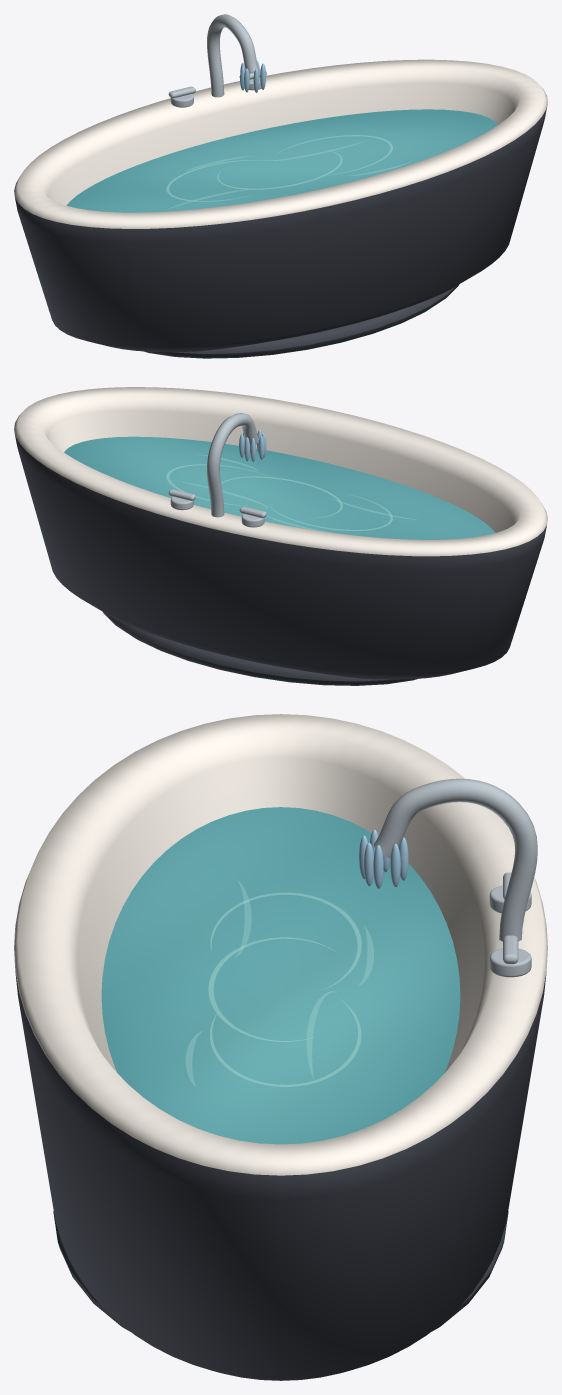
File: bathroomBathOvalCharcoal.glb
3 renders of one model, top to bottom at view 1: azimuth 30°, elevation 25°; view 2: azimuth 150°, elevation 25°; view 3: azimuth 270°, elevation 25°, orthographic. The views are drawn at different scales.
Parts seen in each view (by area): view 1: Oval bath shell, Recessed bath water, Recessed bath plinth, Bath gooseneck faucet; view 2: Oval bath shell, Recessed bath water, Recessed bath plinth, Bath gooseneck faucet; view 3: Oval bath shell, Recessed bath water, Bath gooseneck faucet, Recessed bath plinth, Bath tap base.001.
Boxes of the visible parts, box(x1,y1,x2,y2) form: Oval bath shell: box(14, 59, 547, 352); Recessed bath water: box(66, 109, 497, 212); Recessed bath plinth: box(143, 284, 458, 358); Bath gooseneck faucet: box(207, 14, 258, 97); Oval bath shell: box(14, 387, 547, 679); Recessed bath water: box(64, 436, 495, 539); Recessed bath plinth: box(103, 612, 418, 685); Bath gooseneck faucet: box(207, 413, 258, 517); Oval bath shell: box(14, 714, 547, 1380); Recessed bath water: box(101, 807, 460, 1144); Bath gooseneck faucet: box(374, 778, 537, 941); Recessed bath plinth: box(53, 1211, 508, 1331); Bath tap base.001: box(489, 948, 531, 977).
Bounding box in the file's own units: 2.46 × 1.12 × 1.22.
